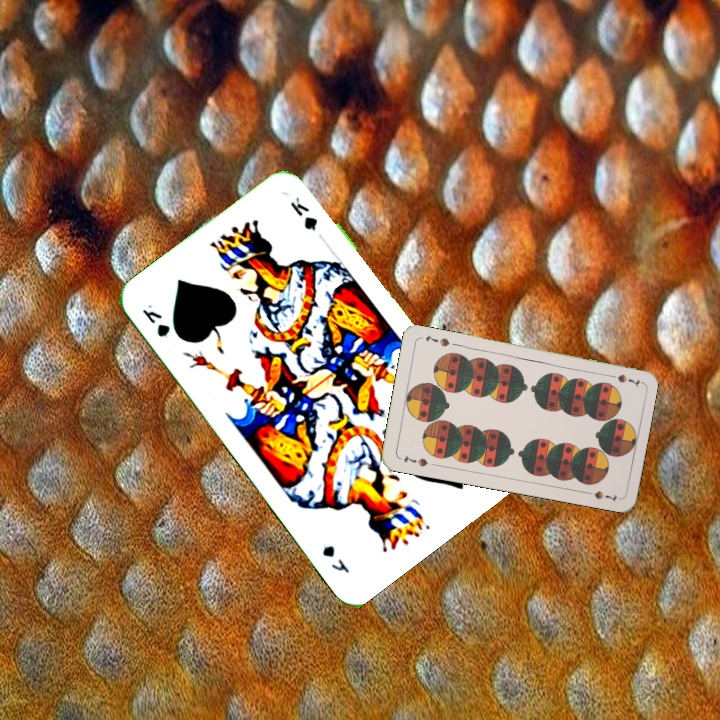GK: (138, 305, 173, 340)
S7: (602, 370, 642, 388), (400, 451, 430, 469)
